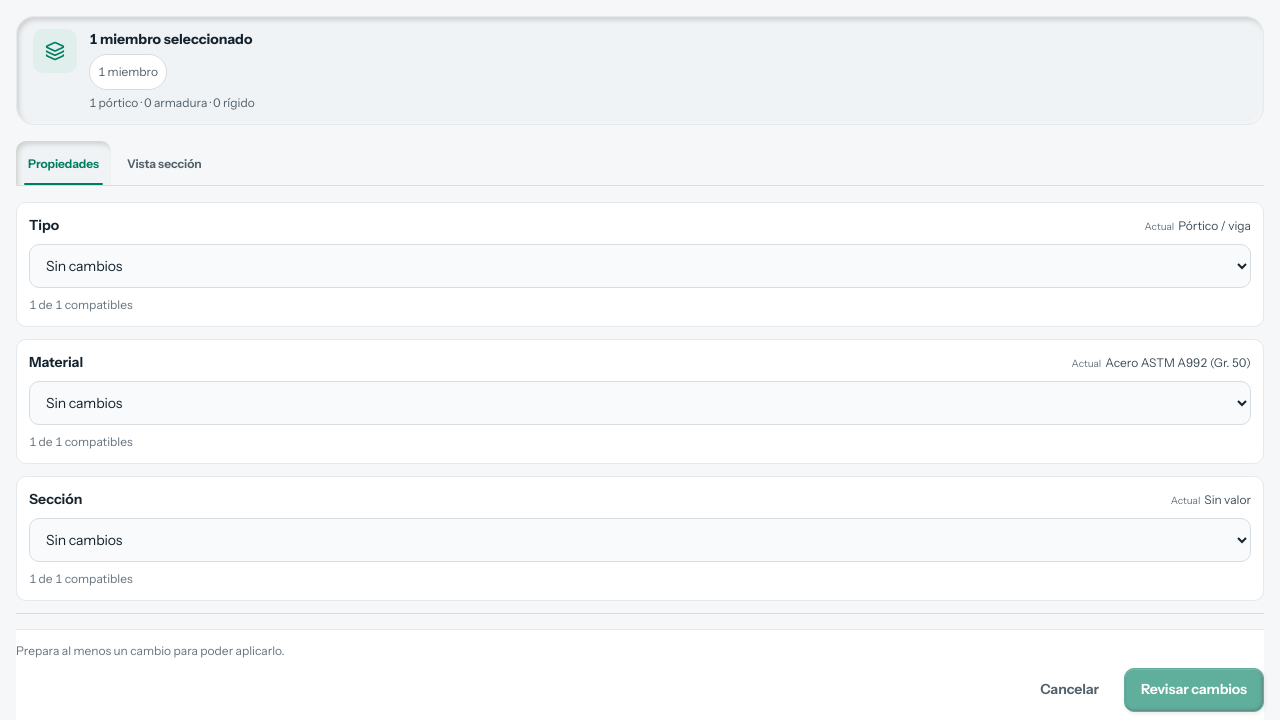
Test: BulkSectionPreview inside the panel › never infers a catalog identity from matching A and I
Click the tab "Vista sección": (164, 163) [115,141,214,185]
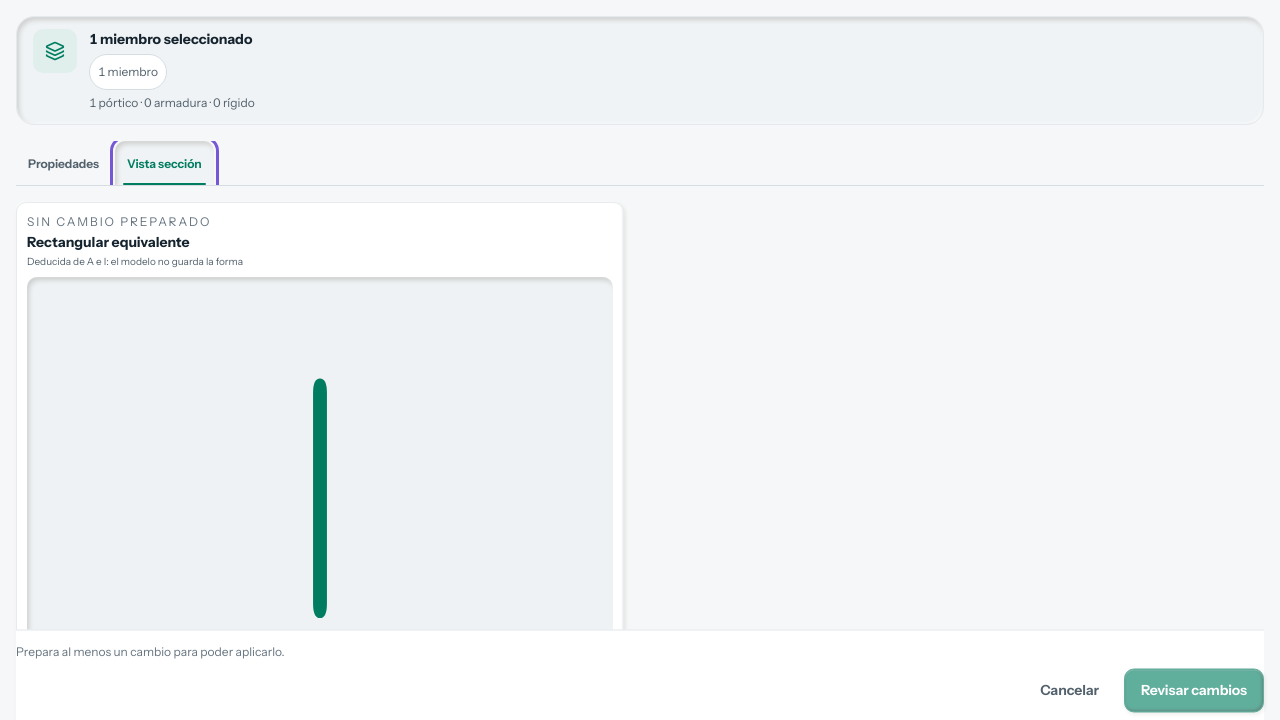
Expected: the text "Rectangular equivalente" is shown, [27,233,190,251]
